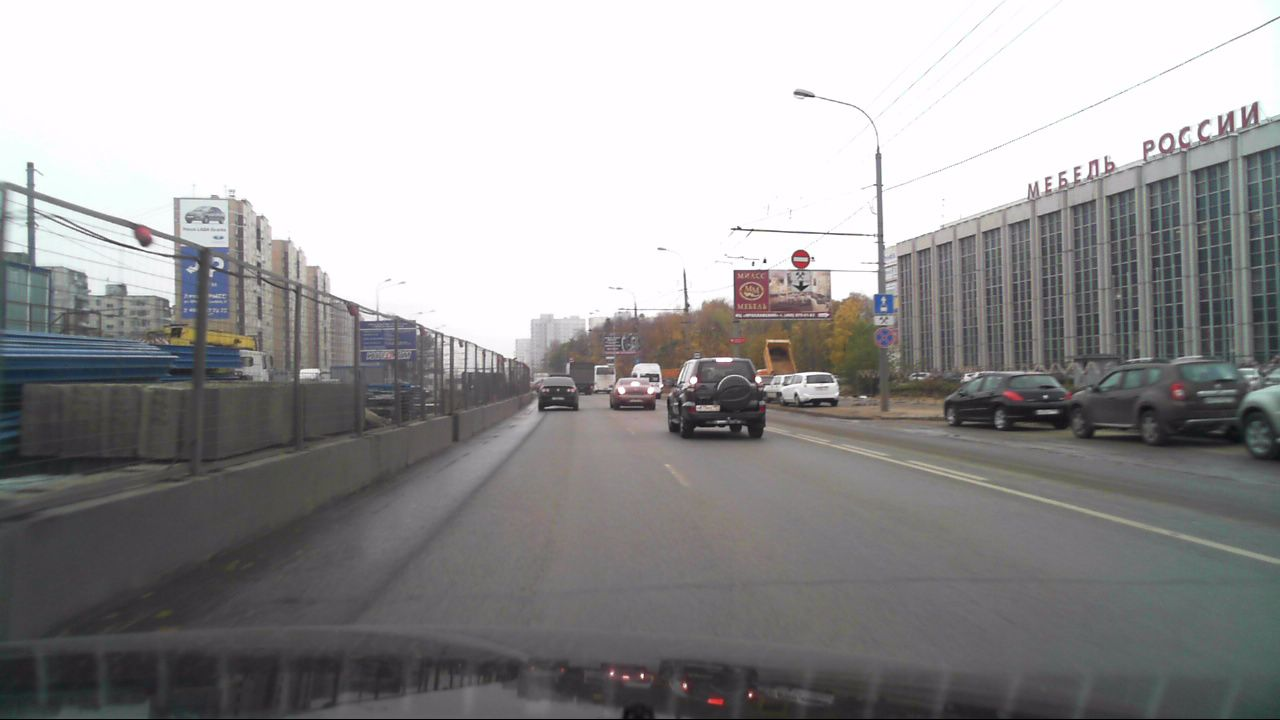No Parking: (873, 327, 895, 347)
